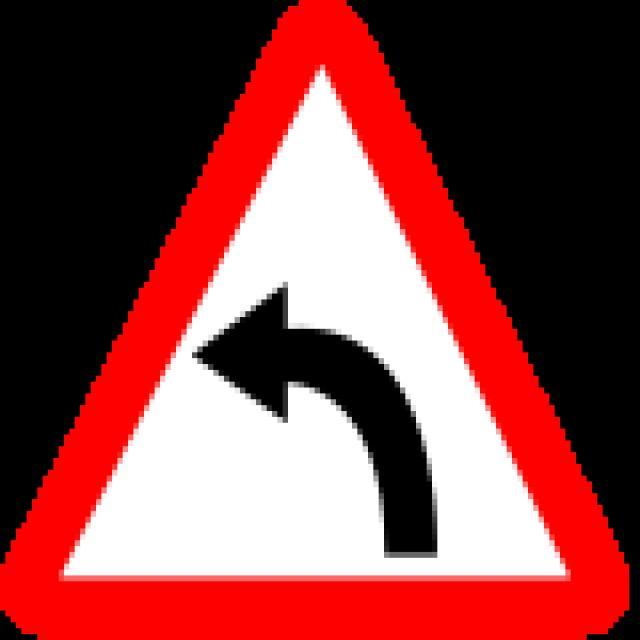Left curve: (5, 0, 640, 640)
